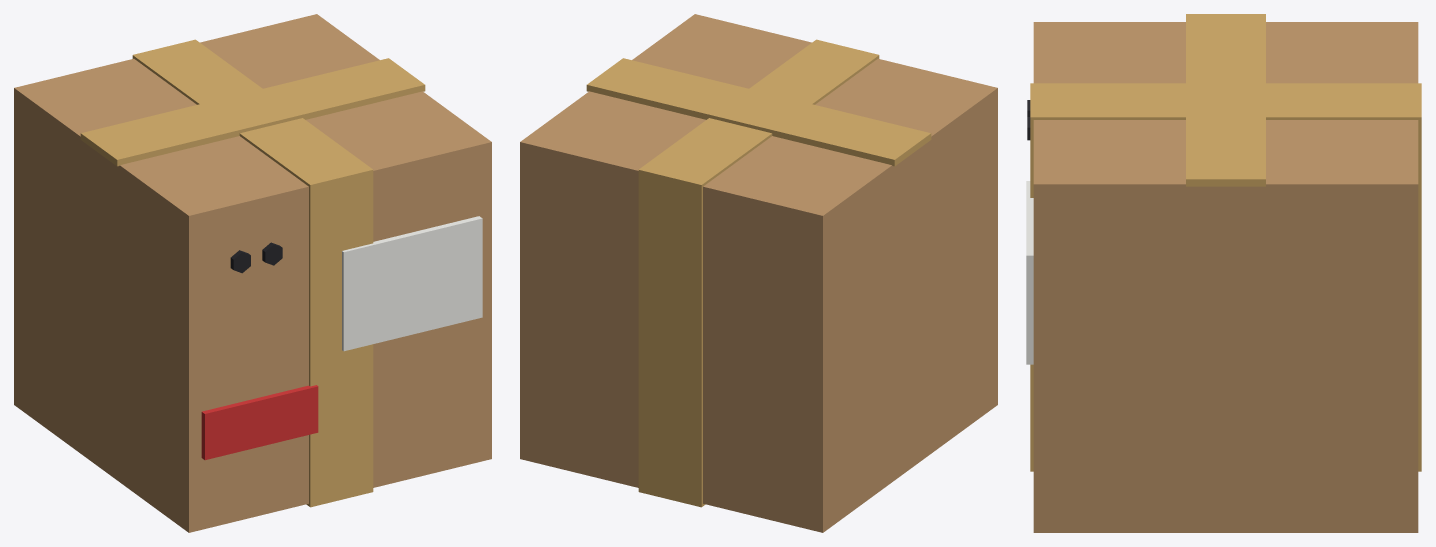
Rendered from Parcel.fbx.
The picture shows the model from 3 angles, left to right: view 1: azimuth 30°, elevation 25°; view 2: azimuth 150°, elevation 25°; view 3: azimuth 270°, elevation 25°; orthographic projection. The views are drawn at different scales.
Visible parts, largest first — view 1: Box, Tape, Label, Fragile, Holes; view 2: Box, Tape; view 3: Box, Tape, Label.
Part boxes in pixels (<box>): Box: <box>14,14,491,532</box>; Tape: <box>80,39,425,507</box>; Label: <box>342,216,482,351</box>; Fragile: <box>201,385,318,460</box>; Holes: <box>230,242,282,273</box>; Box: <box>520,14,997,532</box>; Tape: <box>586,39,931,507</box>; Box: <box>1033,22,1418,532</box>; Tape: <box>1030,14,1421,471</box>; Label: <box>1026,181,1033,364</box>.
Bounding box in the file's own units: 2.44 × 2.47 × 2.47.
